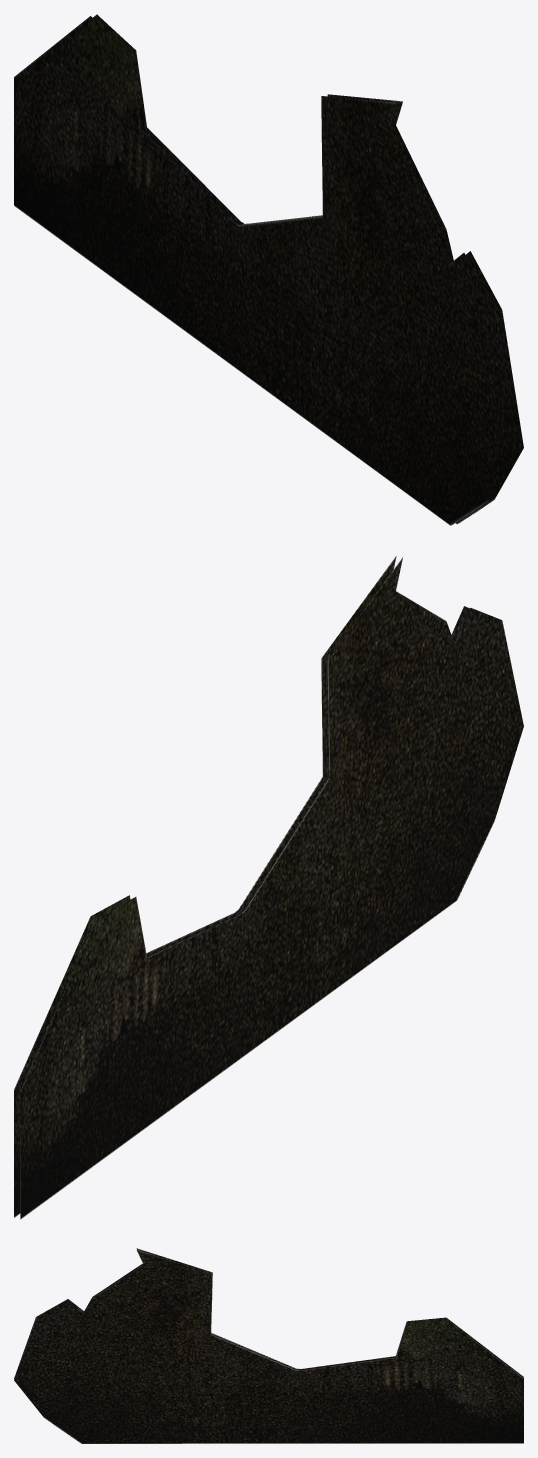
Rendered from Peça 4.fbx.
3 views of the same model, one above another, from view 1: azimuth 30°, elevation 25°; view 2: azimuth 150°, elevation 25°; view 3: azimuth 270°, elevation 25° (orthographic). The views are drawn at different scales.
Parts seen in each view (by area): view 1: Plane; view 2: Plane; view 3: Plane.
Part boxes in pixels (x1,y1,x2,y2): Plane: (14,14,523,525); Plane: (14,556,523,1219); Plane: (14,1248,523,1443).
Size of the model in its own units: 3.67 by 210 by 499.
